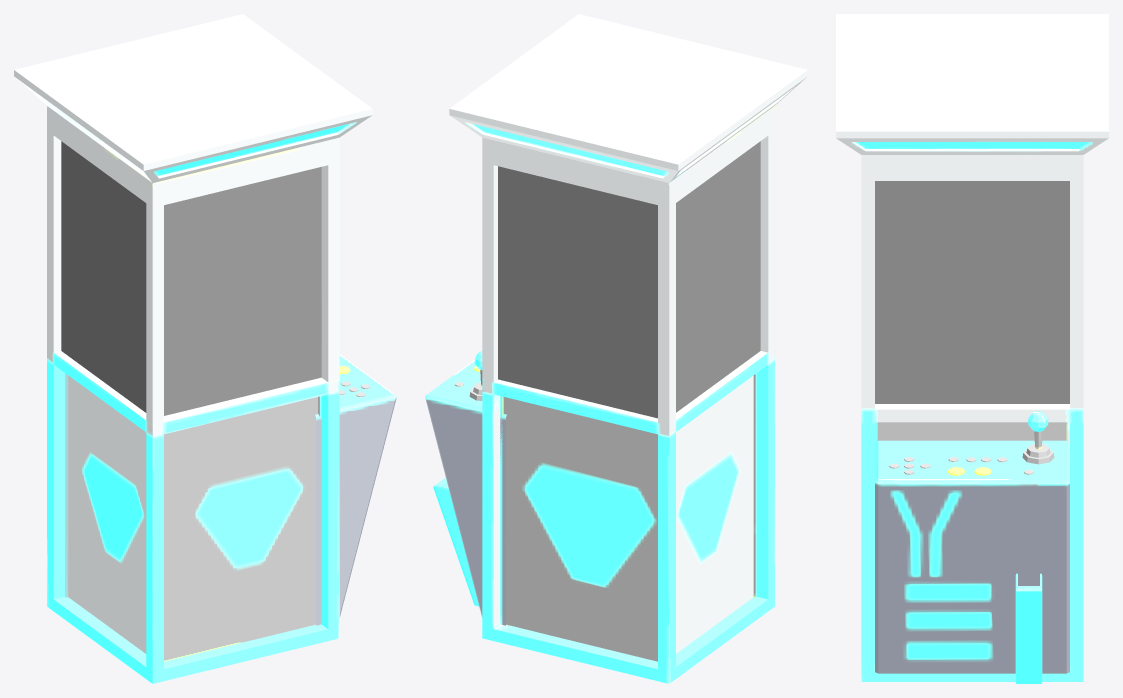
File: SM_Slot_1.fbx
3 views of the same model, side by side, from view 1: azimuth 30°, elevation 25°; view 2: azimuth 150°, elevation 25°; view 3: azimuth 270°, elevation 25° (orthographic). The views are drawn at different scales.
Visible parts, largest first — view 1: SM_Slot_1; view 2: SM_Slot_1; view 3: SM_Slot_1.
Boxes of the visible parts, left/top/right/bottom form: SM_Slot_1: left=14, top=14, right=396, bottom=683; SM_Slot_1: left=425, top=14, right=807, bottom=683; SM_Slot_1: left=836, top=14, right=1108, bottom=683.
Size of the model in its own units: 92.79 by 75.11 by 171.
